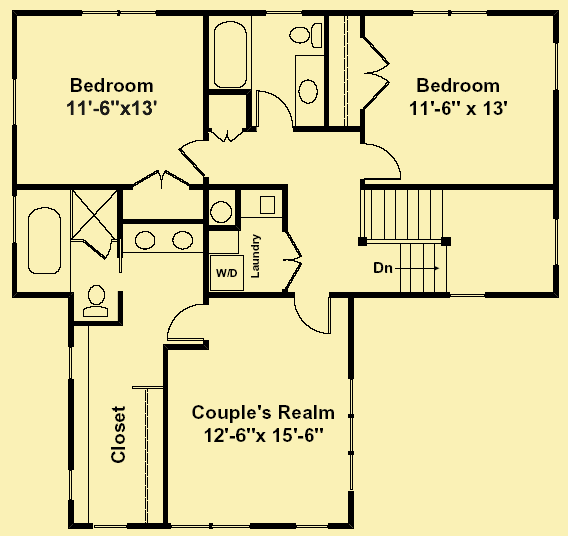door: (355, 32, 392, 114), (290, 289, 337, 340), (127, 164, 191, 195), (357, 141, 403, 184), (161, 300, 209, 341), (276, 226, 305, 293), (253, 89, 294, 132), (175, 134, 208, 179), (205, 122, 252, 146), (81, 234, 116, 261)
large sink: (76, 275, 114, 322), (282, 19, 329, 50)
small sink: (124, 222, 205, 257), (293, 50, 325, 129)
stairs: (355, 182, 454, 300)
tub: (15, 183, 72, 293), (203, 12, 255, 90), (356, 34, 391, 112), (277, 225, 308, 296), (252, 88, 294, 133), (256, 89, 296, 134), (128, 164, 192, 192), (177, 133, 209, 178), (81, 236, 112, 262)
windows: (344, 374, 360, 493), (75, 7, 159, 21), (408, 7, 490, 21), (5, 189, 22, 247), (547, 38, 562, 100), (165, 521, 255, 531), (65, 338, 80, 386), (550, 214, 563, 268), (9, 71, 21, 127), (262, 6, 308, 20), (286, 518, 330, 532), (92, 519, 131, 533), (446, 292, 492, 303), (64, 466, 77, 504)
